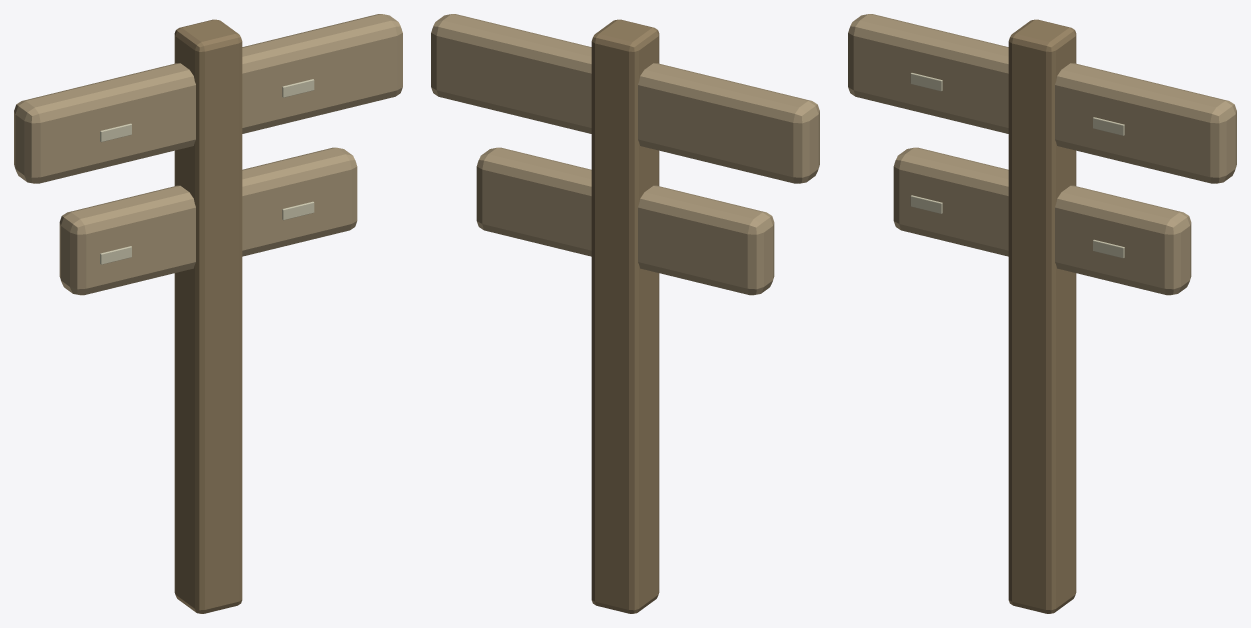
The model's file is Trail_Sign_Barren.glb.
The picture shows the model from 3 angles, left to right: view 1: azimuth 30°, elevation 25°; view 2: azimuth 150°, elevation 25°; view 3: azimuth 330°, elevation 25°; orthographic projection.
Visible parts, largest first — view 1: Structure; view 2: Structure; view 3: Structure.
Boxes of the visible parts, x1,y1,x2,y2 form: Structure: [14, 14, 402, 613]; Structure: [431, 14, 819, 613]; Structure: [848, 14, 1236, 613].
Bounding box in the file's own units: 1.45 × 2.1 × 0.18.
